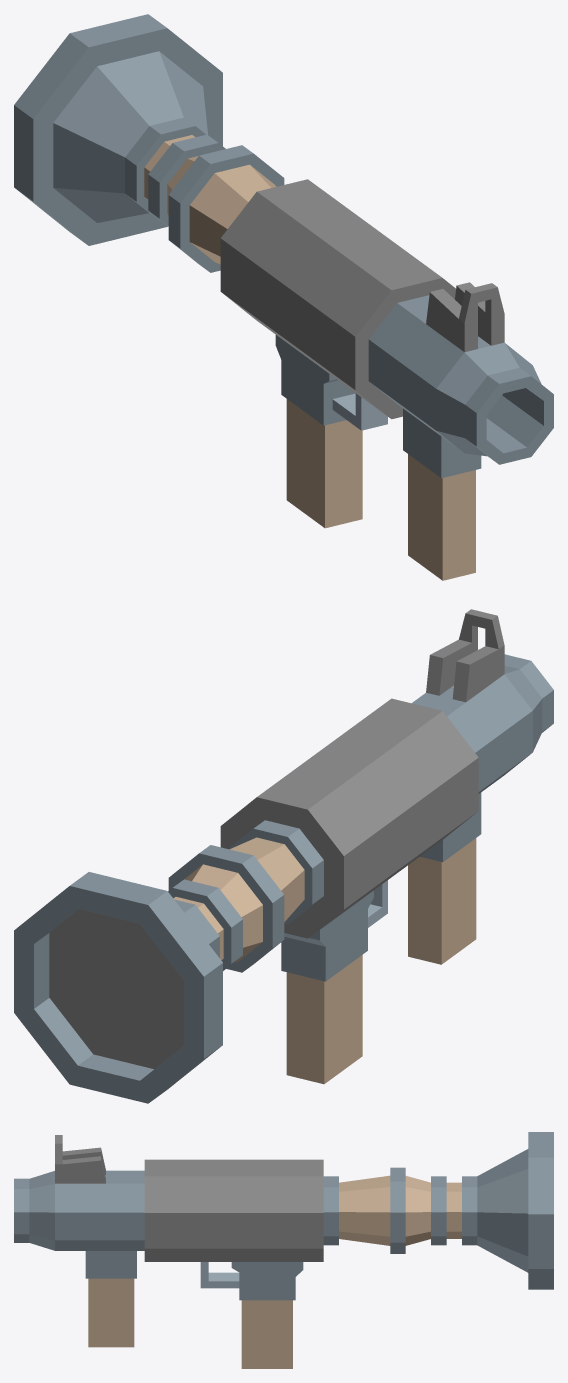
Rendered from rocketLauncher.glb.
The picture shows the model from 3 angles, top to bottom: view 1: azimuth 30°, elevation 25°; view 2: azimuth 150°, elevation 25°; view 3: azimuth 270°, elevation 25°; orthographic projection. The views are drawn at different scales.
Parts seen in each view (by area): view 1: Group.001; view 2: Group.001; view 3: Group.001.
Part boxes in pixels (x1,y1,x2,y2): Group.001: [14, 14, 553, 580]; Group.001: [14, 609, 553, 1103]; Group.001: [14, 1132, 553, 1368].
Bounding box in the file's own units: 0.2179 × 0.3686 × 0.8077.
